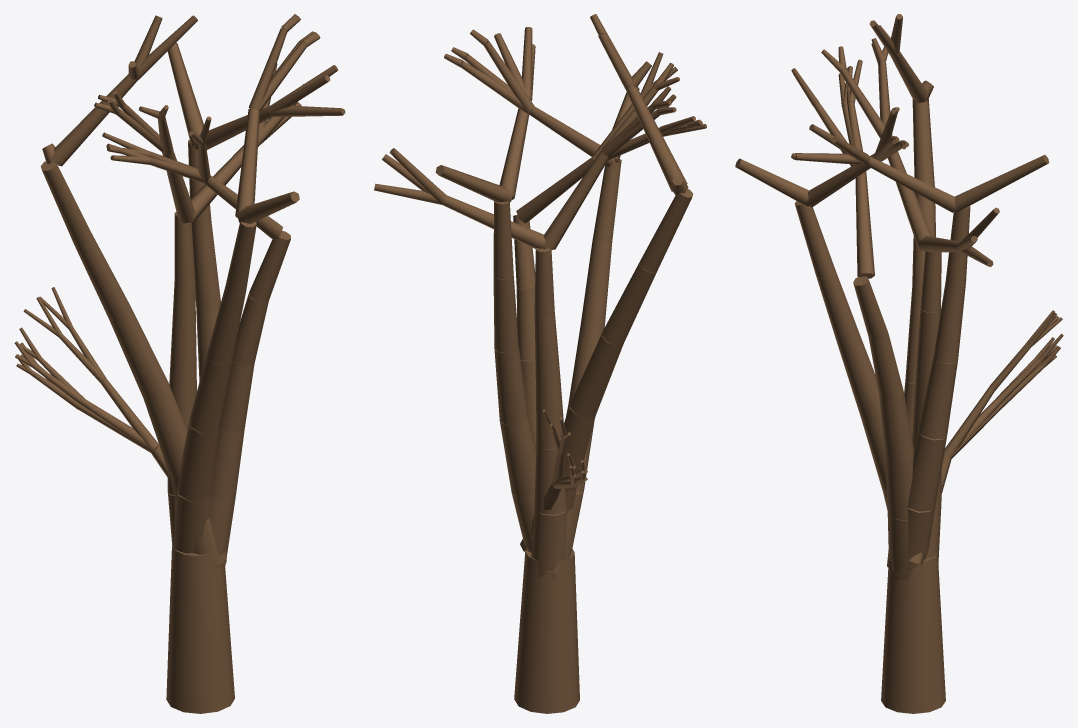
Rendered from oszlopos-diszalma-fa-tel.glb.
The picture shows the model from 3 angles, left to right: view 1: azimuth 30°, elevation 25°; view 2: azimuth 150°, elevation 25°; view 3: azimuth 270°, elevation 25°; orthographic projection. The views are drawn at different scales.
Parts seen in each view (by area): view 1: torzs, vazag-3-3, vazag-2-2, vazag-3-2, vazag-2-3, vazag-3-4, vazag-5-4, vazag-1-2, vazag-2-4, vazag-4-4, vazag-3-5, vazag-1-3 (+22 smaller); view 2: torzs, vazag-5-2, vazag-3-3, vazag-5-3, vazag-2-4, vazag-4-1, vazag-3-4, vazag-5-4, gally-3-1, vazag-3-5, vazag-4-3, gally-0-1 (+21 smaller); view 3: torzs, vazag-5-2, vazag-5-3, vazag-2-3, vazag-5-4, vazag-2-4, vazag-1-3, gally-4-1, vazag-3-5, vazag-1-2, vazag-2-5, vazag-1-4 (+20 smaller).
Boxes of the visible parts, x1=… form: torzs: x1=166, y1=544, x2=234, y2=713; vazag-3-3: x1=109, y1=306, x2=169, y2=399; vazag-2-2: x1=177, y1=420, x2=218, y2=501; vazag-3-2: x1=143, y1=384, x2=187, y2=481; vazag-2-3: x1=189, y1=353, x2=231, y2=433; vazag-3-4: x1=74, y1=233, x2=131, y2=321; vazag-5-4: x1=191, y1=224, x2=220, y2=310; vazag-1-2: x1=211, y1=428, x2=244, y2=499; vazag-2-4: x1=207, y1=287, x2=245, y2=364; vazag-4-4: x1=171, y1=282, x2=196, y2=356; vazag-3-5: x1=40, y1=161, x2=92, y2=245; vazag-1-3: x1=219, y1=362, x2=254, y2=432; torzs: x1=514, y1=549, x2=579, y2=713; vazag-5-2: x1=500, y1=414, x2=536, y2=497; vazag-3-3: x1=569, y1=331, x2=623, y2=418; vazag-5-3: x1=494, y1=345, x2=527, y2=425; vazag-2-4: x1=581, y1=240, x2=612, y2=326; vazag-4-1: x1=531, y1=509, x2=566, y2=578; vazag-3-4: x1=602, y1=261, x2=656, y2=345; vazag-5-4: x1=493, y1=273, x2=518, y2=352; gally-3-1: x1=544, y1=150, x2=610, y2=249; vazag-3-5: x1=639, y1=189, x2=693, y2=272; vazag-4-3: x1=536, y1=376, x2=563, y2=448; gally-0-1: x1=626, y1=86, x2=687, y2=191; torzs: x1=881, y1=553, x2=945, y2=713; vazag-5-2: x1=908, y1=431, x2=947, y2=511; vazag-5-3: x1=918, y1=357, x2=957, y2=439; vazag-2-3: x1=838, y1=341, x2=881, y2=422; vazag-5-4: x1=933, y1=281, x2=965, y2=363; vazag-2-4: x1=816, y1=271, x2=862, y2=350; vazag-1-3: x1=879, y1=391, x2=913, y2=459; gally-4-1: x1=855, y1=171, x2=874, y2=278; vazag-3-5: x1=912, y1=98, x2=934, y2=186; vazag-1-2: x1=885, y1=452, x2=913, y2=520; vazag-2-5: x1=794, y1=201, x2=835, y2=278; vazag-1-4: x1=868, y1=333, x2=903, y2=399.
Bounding box in the file's own units: 2.2 × 5.02 × 2.24.
